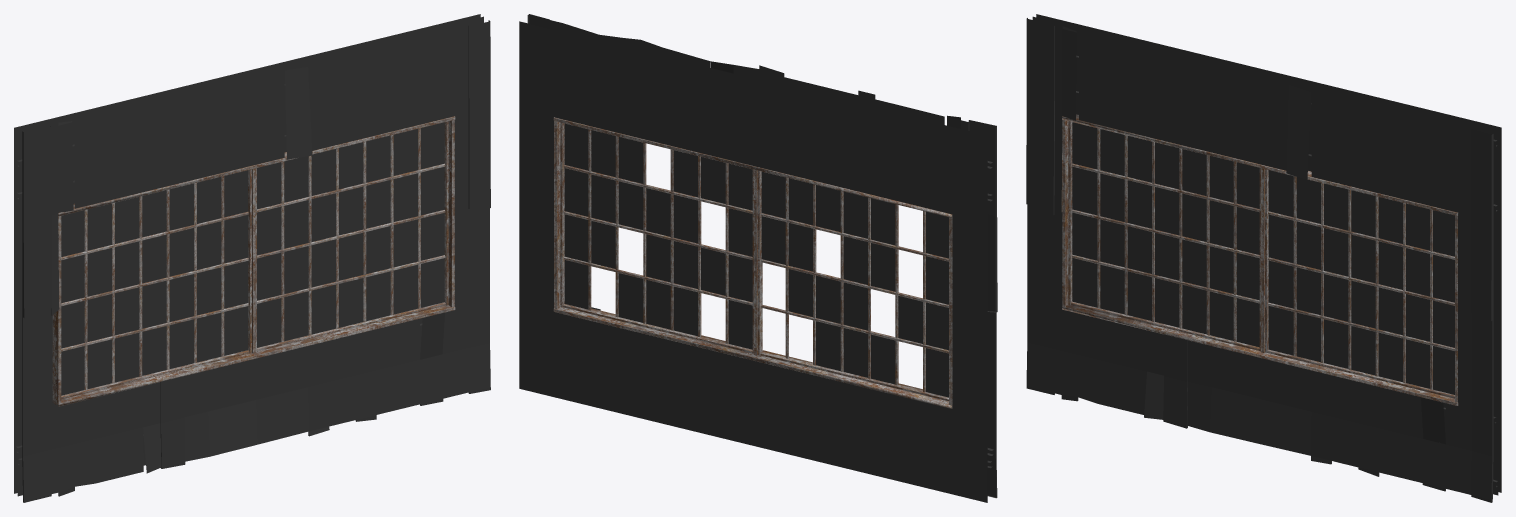
Rendered from SM_Wall_Windows_Large.FBX.
3 renders of one model, left to right at view 1: azimuth 30°, elevation 25°; view 2: azimuth 150°, elevation 25°; view 3: azimuth 330°, elevation 25°, orthographic.
Visible parts, largest first — view 1: SM_Wall_Windows_Large_LOD0; view 2: SM_Wall_Windows_Large_LOD0; view 3: SM_Wall_Windows_Large_LOD0.
Part boxes in pixels (x1=…): SM_Wall_Windows_Large_LOD0: x1=14, y1=14, x2=490, y2=502; SM_Wall_Windows_Large_LOD0: x1=519, y1=14, x2=997, y2=502; SM_Wall_Windows_Large_LOD0: x1=1026, y1=14, x2=1501, y2=502.
Size of what is drawn, in the model's own units: 602 by 30.88 by 463.
